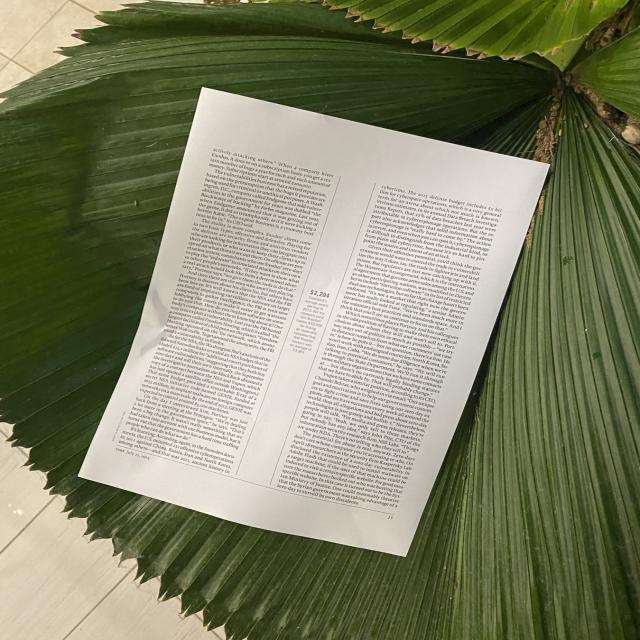document: (80, 89, 548, 555)
